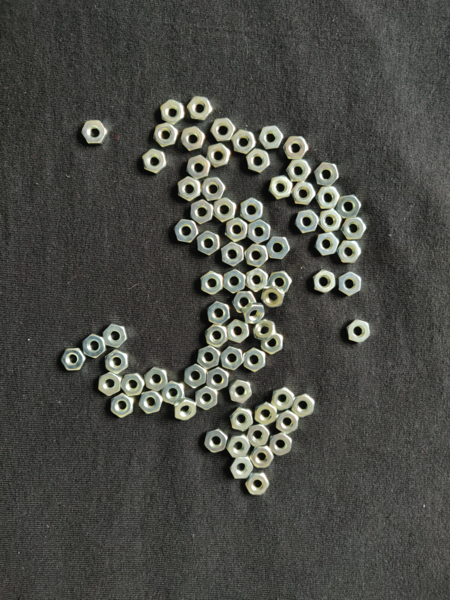nut: (81, 120, 108, 146), (153, 122, 179, 148), (180, 126, 206, 152), (160, 100, 185, 126), (206, 143, 231, 168), (201, 177, 226, 202), (174, 218, 199, 243), (144, 367, 169, 392), (187, 96, 213, 120), (143, 149, 167, 175), (231, 130, 257, 154), (258, 126, 284, 150), (284, 136, 310, 160), (190, 199, 214, 225), (204, 428, 228, 454), (210, 118, 235, 142), (187, 155, 211, 180), (246, 148, 270, 173), (314, 162, 339, 186), (337, 195, 362, 219), (295, 210, 320, 234), (178, 176, 202, 201), (197, 231, 221, 256), (207, 301, 231, 326), (227, 319, 251, 344), (82, 334, 107, 358), (103, 324, 128, 348), (221, 346, 245, 371), (206, 367, 230, 392), (341, 217, 367, 240), (243, 347, 266, 373), (319, 209, 343, 233), (245, 244, 269, 268), (197, 346, 221, 370), (105, 350, 129, 374), (121, 373, 145, 397), (228, 380, 252, 404), (292, 394, 316, 418), (268, 176, 293, 199), (291, 182, 316, 205), (315, 186, 340, 209), (315, 233, 340, 256), (337, 240, 362, 263), (339, 272, 362, 297), (214, 198, 237, 223), (241, 198, 264, 223), (225, 218, 248, 243), (222, 242, 245, 267), (245, 268, 268, 293), (111, 393, 134, 418), (162, 381, 185, 406), (184, 364, 207, 389), (230, 407, 253, 432), (286, 160, 312, 182), (61, 349, 87, 371), (313, 270, 336, 294), (347, 320, 371, 343), (248, 220, 271, 244), (201, 271, 224, 295), (223, 270, 246, 294), (205, 324, 228, 348), (139, 391, 163, 414), (173, 398, 197, 421), (271, 388, 295, 411), (255, 402, 278, 426), (277, 410, 300, 434), (270, 433, 293, 457), (247, 424, 270, 448), (227, 435, 251, 458), (250, 446, 274, 469), (230, 457, 254, 480), (268, 271, 293, 293), (196, 386, 218, 411), (267, 237, 290, 260), (254, 320, 277, 343), (261, 333, 284, 356), (99, 372, 121, 396), (246, 474, 270, 496), (232, 292, 257, 313), (262, 286, 285, 308), (242, 303, 264, 324)
